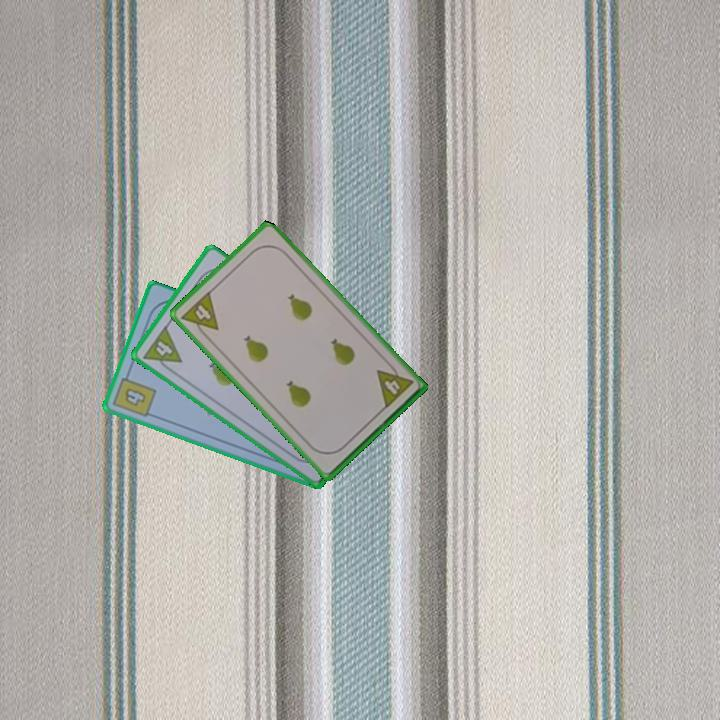4b: (109, 368, 159, 421)
4p: (139, 322, 185, 377), (177, 287, 221, 342), (373, 358, 416, 412)
